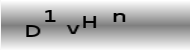1: (44, 9, 57, 23)
D: (24, 24, 41, 39)
H: (82, 14, 98, 29)
n: (111, 12, 127, 24)
v: (66, 24, 81, 35)
